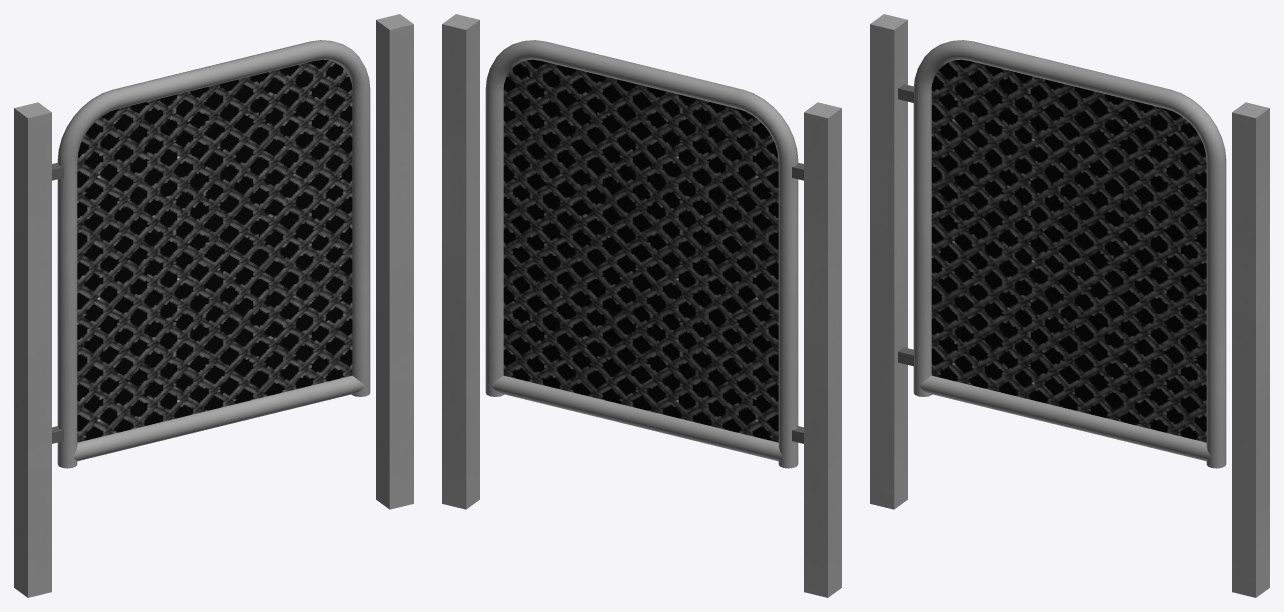
File: fence-chainlink-gate-1m-cbj_LOD00.gltf
The picture shows the model from 3 angles, left to right: view 1: azimuth 30°, elevation 25°; view 2: azimuth 150°, elevation 25°; view 3: azimuth 330°, elevation 25°; orthographic projection.
Visible parts, largest first — view 1: post.001; view 2: post.001; view 3: post.001.
Boxes of the visible parts, box(x1,y1,x2,y2) form: post.001: box(14, 14, 413, 597); post.001: box(442, 14, 841, 597); post.001: box(870, 14, 1269, 597).
Bounding box in the file's own units: 1.12 × 1.33 × 0.07.
